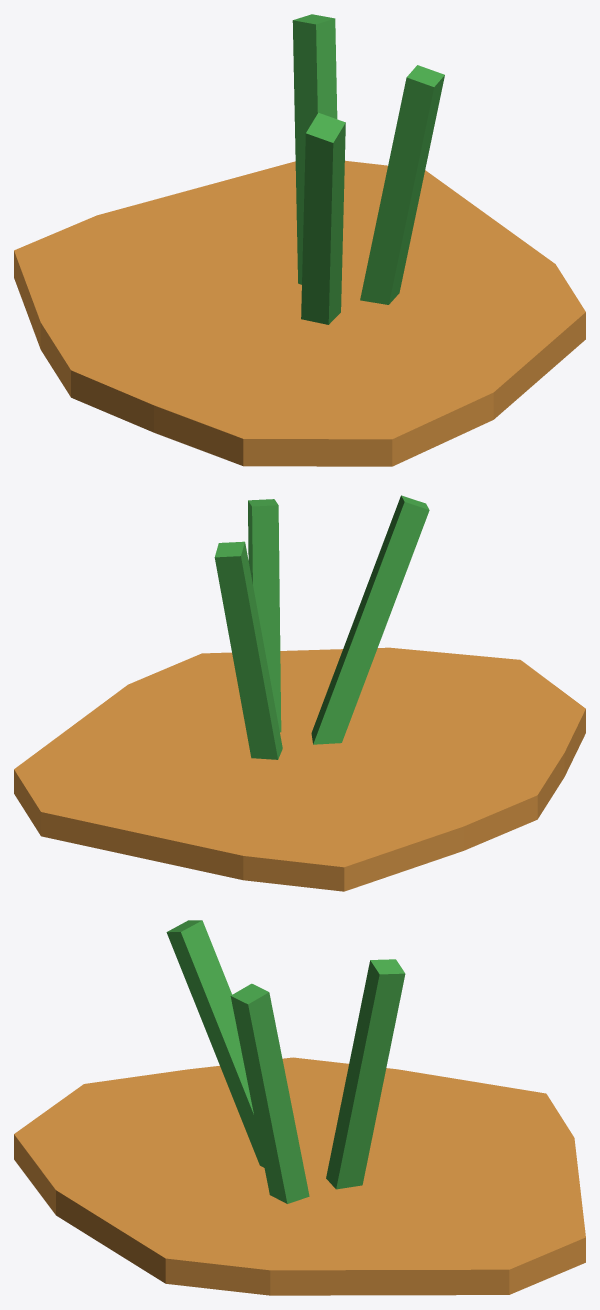
The model's file is Broken Floor (2).obj.
3 renders of one model, top to bottom at view 1: azimuth 30°, elevation 25°; view 2: azimuth 150°, elevation 25°; view 3: azimuth 270°, elevation 25°, orthographic. The views are drawn at different scales.
Parts seen in each view (by area): view 1: group1834761066, group1649548467, group1718343960, group1560400653; view 2: group1834761066, group1718343960, group1560400653, group1649548467; view 3: group1834761066, group1560400653, group1649548467, group1718343960.
Boxes of the visible parts, x1=… form: group1834761066: x1=14, y1=160, x2=585, y2=466; group1649548467: x1=360, y1=65, x2=444, y2=304; group1718343960: x1=301, y1=112, x2=345, y2=324; group1560400653: x1=292, y1=14, x2=337, y2=284; group1834761066: x1=14, y1=647, x2=585, y2=891; group1718343960: x1=311, y1=495, x2=429, y2=744; group1560400653: x1=214, y1=541, x2=282, y2=759; group1649548467: x1=248, y1=499, x2=281, y2=732; group1834761066: x1=14, y1=1057, x2=585, y2=1295; group1560400653: x1=326, y1=959, x2=405, y2=1189; group1649548467: x1=230, y1=983, x2=309, y2=1203; group1718343960: x1=166, y1=920, x2=264, y2=1167.
Size of the model in its own units: 0.361 by 0.1992 by 0.4099.
